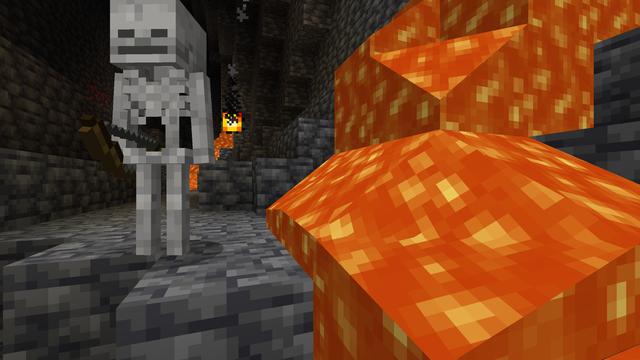squelettes: (104, 2, 204, 268)
